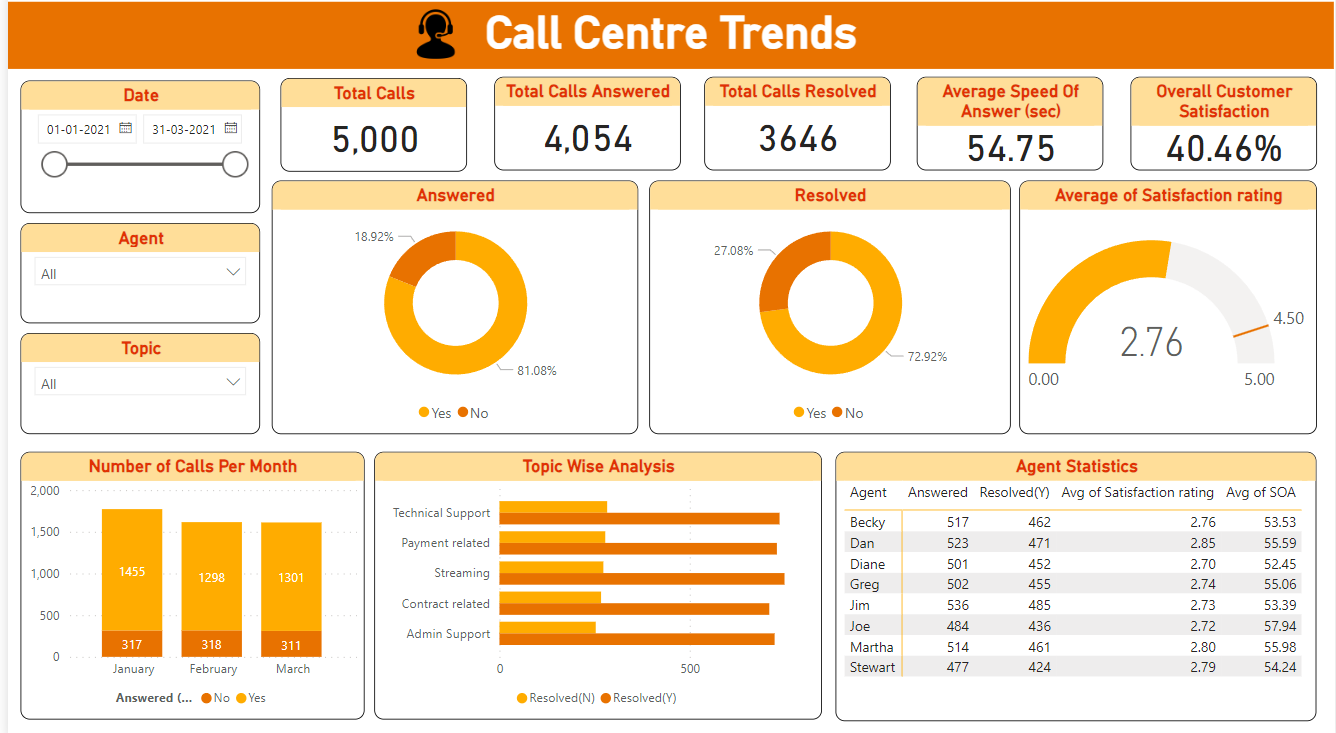

The dashboard page shown, as its layout file describes it:
{"tool":"powerbi","page":{"name":"Page 1","canvas":[1280,720],"ordinal":0},"visuals":[{"type":"textbox","box":[0,8.4,1279.6,65.1],"z":0},{"type":"card","title":"Total Calls","fields":{"Values":["Measure.Total Calls"]},"box":[262.9,82,179.7,90.5],"z":1000},{"type":"card","title":"Overall Customer Satisfaction","fields":{"Values":["Measure.Overall Customer Satisfaction"]},"box":[1083,80.8,179.7,90.5],"z":2000},{"type":"card","title":"Average Speed Of Answer (sec)","fields":{"Values":["Avg(Call Centre.Speed of answer in seconds)"]},"box":[876.8,80.8,179.7,90.5],"z":3000},{"type":"card","title":"Total Calls Resolved","fields":{"Values":["Measure.Resolved(Y)"]},"box":[671.8,80.8,179.7,90.5],"z":4000},{"type":"card","title":"Total Calls Answered","fields":{"Values":["Measure.Total Call Answered"]},"box":[469.1,80.8,179.7,90.5],"z":5000},{"type":"slicer","title":"Agent","fields":{"Values":["Call Centre.Agent"]},"box":[12.1,221.9,231.6,96.5],"z":6000},{"type":"slicer","title":"Topic","fields":{"Values":["Call Centre.Topic"]},"box":[12.1,328,231.6,97.7],"z":7000},{"type":"slicer","title":"Date","fields":{"Values":["Call Centre.Date"]},"box":[12.1,84.4,231.6,127.8],"z":8000},{"type":"gauge","title":"Average of Satisfaction rating","fields":{"Y":["Avg(Call Centre.Satisfaction rating)"],"MaxValue":["Max(Call Centre.Satisfaction rating)1"],"TargetValue":["Measure.Target Value Satisfaction"]},"box":[975.7,180.9,287,244.8],"z":9000},{"type":"donutChart","title":"Answered ","fields":{"Category":["Call Centre.Answered (Y/N)"],"Y":["CountNonNull(Call Centre.Answered (Y/N))"]},"box":[254.5,180.9,353.4,244.8],"z":10000},{"type":"donutChart","title":"Resolved","fields":{"Y":["CountNonNull(Call Centre.Answered (Y/N))"],"Category":["Call Centre.Resolved"]},"box":[618.7,180.9,348.5,244.8],"z":11000},{"type":"pivotTable","title":"Agent Statistics","fields":{"Rows":["Call Centre.Agent"],"Values":["Measure.Answered","Measure.Resolved(Y)","Avg(Call Centre.Satisfaction rating)","Avg(Call Centre.Speed of answer in seconds)"]},"box":[798.4,442.6,464.3,260],"z":12000},{"type":"columnChart","title":"Number of Calls Per Month","fields":{"Category":["Call Centre.Date.Variation.Date Hierarchy.Month"],"Y":["CountNonNull(Call Centre.Answered (Y/N))"],"Series":["Call Centre.Answered (Y/N)"]},"box":[12.1,442.6,331.7,258.1],"z":13000},{"type":"image","box":[377.5,8.4,71.2,62.7],"z":14000},{"type":"image","box":[1156.6,3.6,123,80.8],"z":15000},{"type":"clusteredBarChart","title":"Topic  Wise Analysis","fields":{"Category":["Call Centre.Topic"],"Y":["Measure.Resolved(N)","Measure.Resolved(Y)"]},"box":[353.4,442.6,431.8,258.1],"z":16000}]}

Visuals, with their boxes in screenshot pixels (x1, y1, x2, y2), scaled from the page's 1280x720 canvas onto the 1336x733 screenshot:
textbox: 0 9 1335 75
"Total Calls" card: 274 83 462 176
"Overall Customer Satisfaction" card: 1130 82 1318 174
"Average Speed Of Answer (sec)" card: 915 82 1103 174
"Total Calls Resolved" card: 701 82 889 174
"Total Calls Answered" card: 490 82 677 174
"Agent" slicer: 13 226 254 324
"Topic" slicer: 13 334 254 433
"Date" slicer: 13 86 254 216
"Average of Satisfaction rating" gauge: 1018 184 1318 433
"Answered " donutChart: 266 184 634 433
"Resolved" donutChart: 646 184 1010 433
"Agent Statistics" pivotTable: 833 451 1318 715
"Number of Calls Per Month" columnChart: 13 451 359 713
image: 394 9 468 72
image: 1207 4 1335 86
"Topic  Wise Analysis" clusteredBarChart: 369 451 820 713
